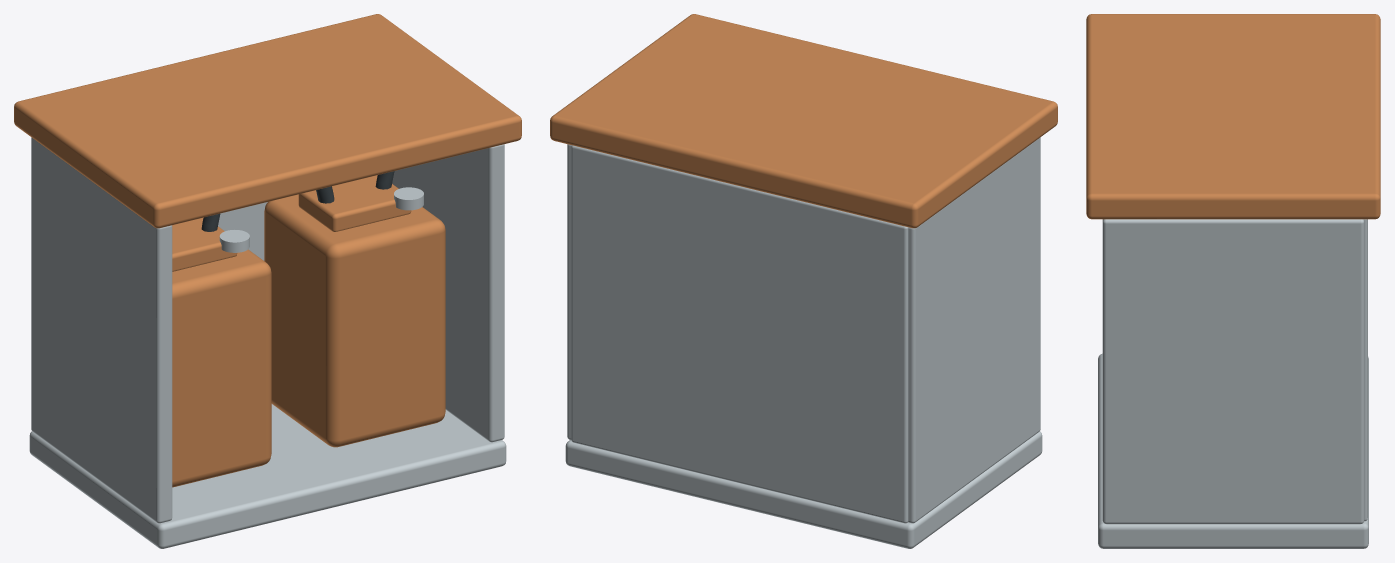
Rendered from abandoned-weather-station-and-storm-shelter-fuel-can-c-31c1bbd2__31049.glb.
3 views of the same model, side by side, from view 1: azimuth 30°, elevation 25°; view 2: azimuth 150°, elevation 25°; view 3: azimuth 270°, elevation 25° (orthographic). The views are drawn at different scales.
Parts seen in each view (by area): view 1: fuel-can-cabinet; view 2: fuel-can-cabinet; view 3: fuel-can-cabinet.
Part boxes in pixels (box(x1,y1,x2,y2)): fuel-can-cabinet: box(14, 14, 521, 548); fuel-can-cabinet: box(550, 14, 1057, 548); fuel-can-cabinet: box(1086, 14, 1380, 548).
Size of the model in its own units: 0.93 by 0.85 by 0.63.
